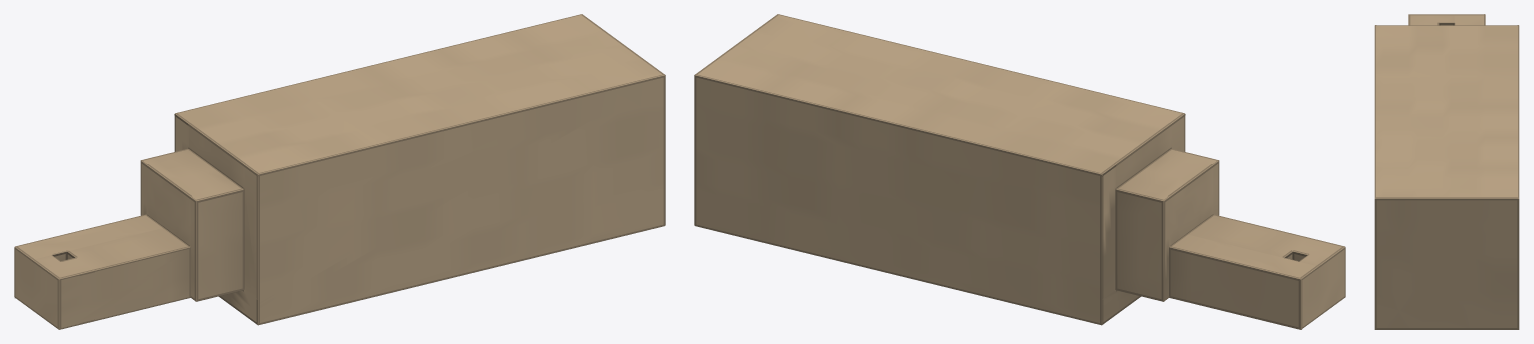
3 renders of one model, left to right at view 1: azimuth 30°, elevation 25°; view 2: azimuth 150°, elevation 25°; view 3: azimuth 270°, elevation 25°, orthographic. The views are drawn at different scales.
Parts seen in each view (by area): view 1: part-b; view 2: part-b; view 3: part-b.
Part boxes in pixels (box(x1,y1,x2,y2)): part-b: box(14, 14, 665, 329); part-b: box(694, 14, 1345, 329); part-b: box(1374, 14, 1519, 329).
Bounding box in the file's own units: 0.4912 × 0.1211 × 0.1208.
